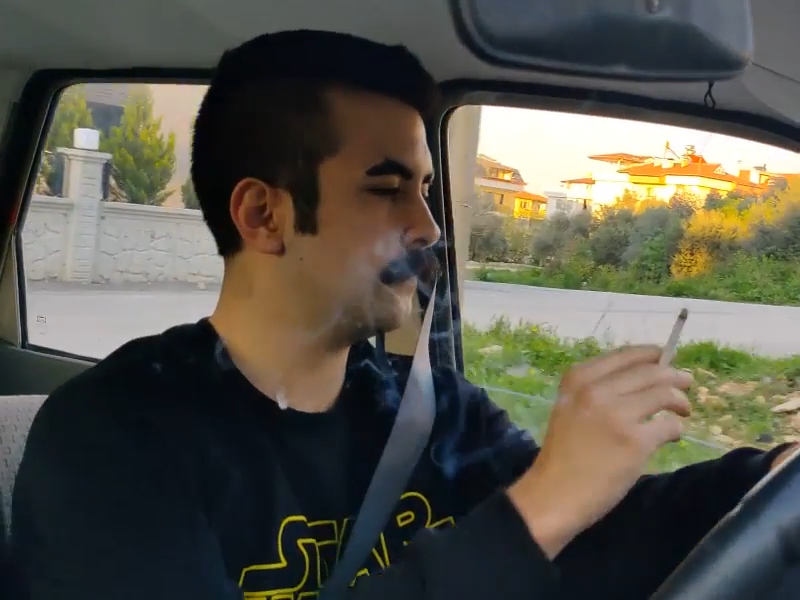sigara: (651, 303, 695, 372)
